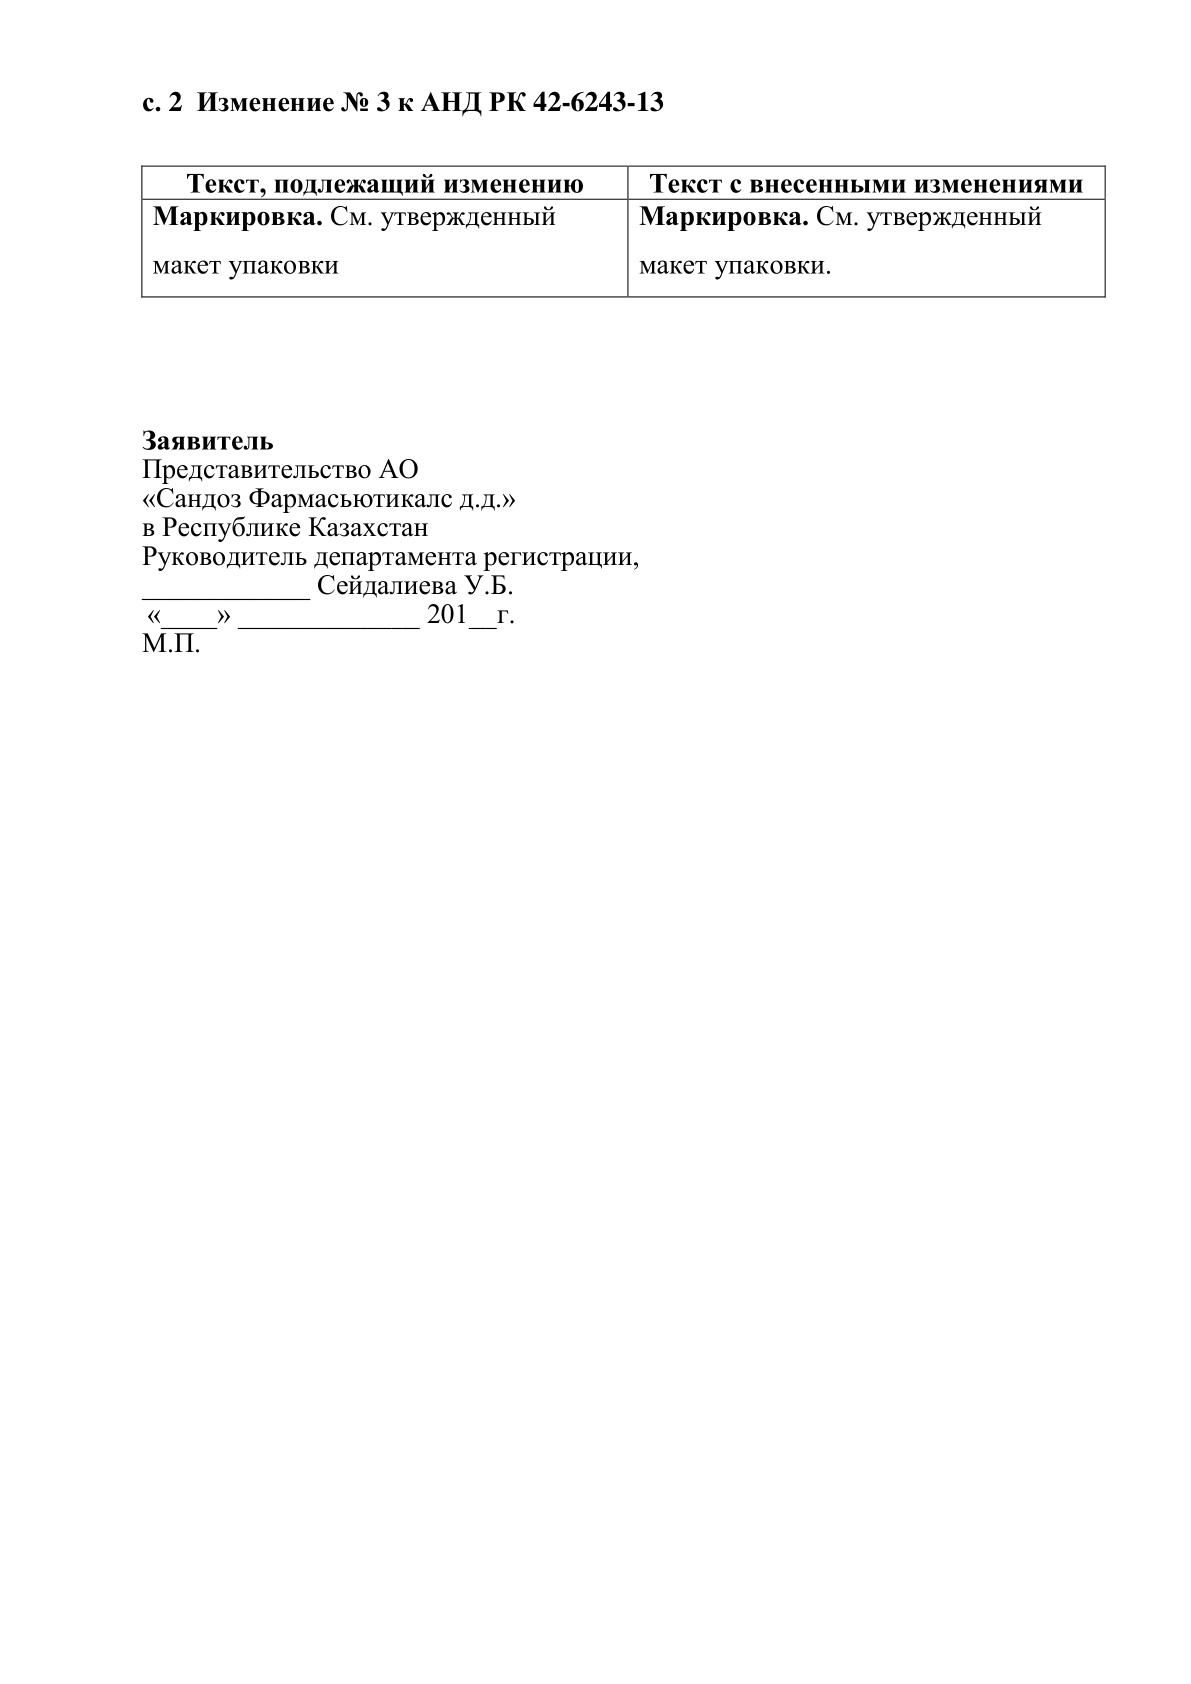full_lined: (140, 164, 1107, 298)
